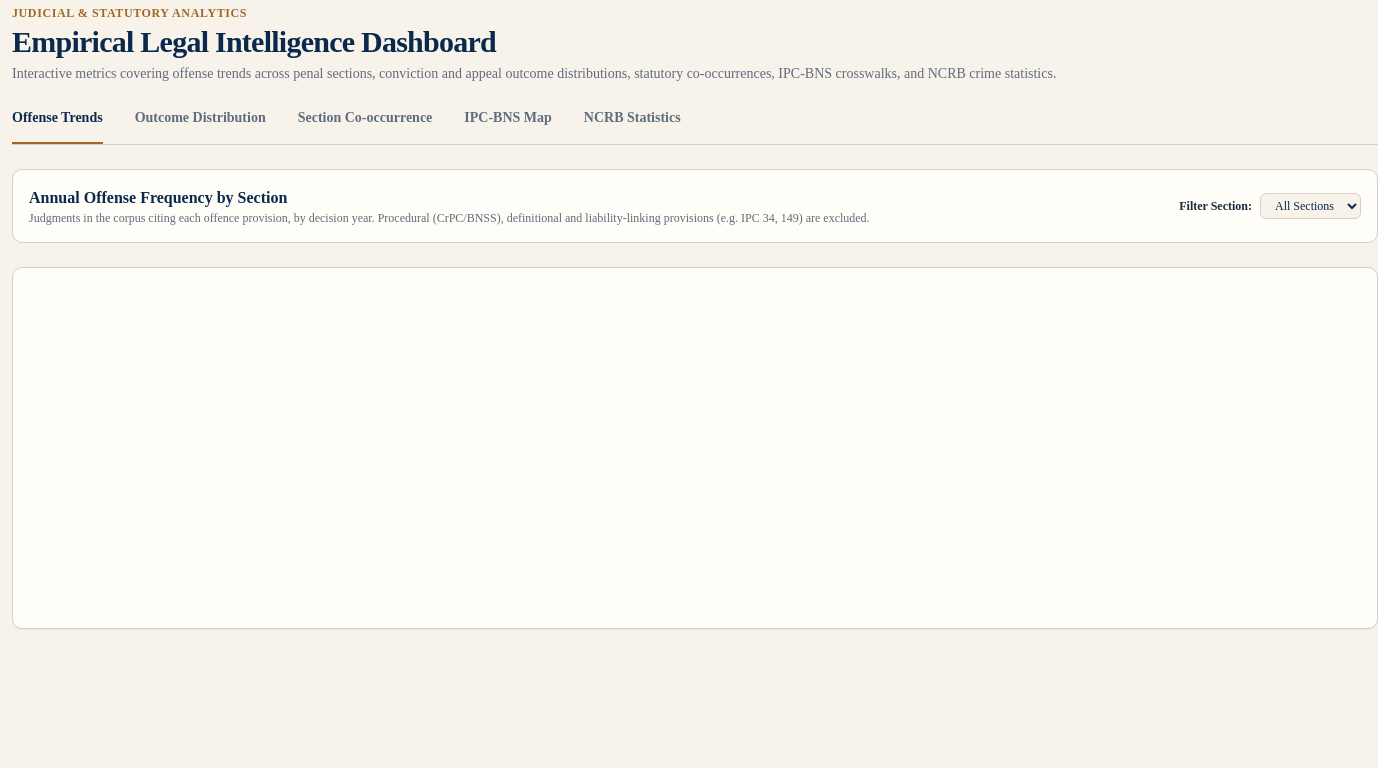
Test: Professional Analytics Dashboard › switches to Outcome Distribution tab on click
The width and height of the screenshot is (1378, 768).
Expected: the element with test id "tab-offense-trends" is shown, [12,169,1377,629]
Click the button "Outcome Distribution" at x=200, y=126, box [135,108,266,144]
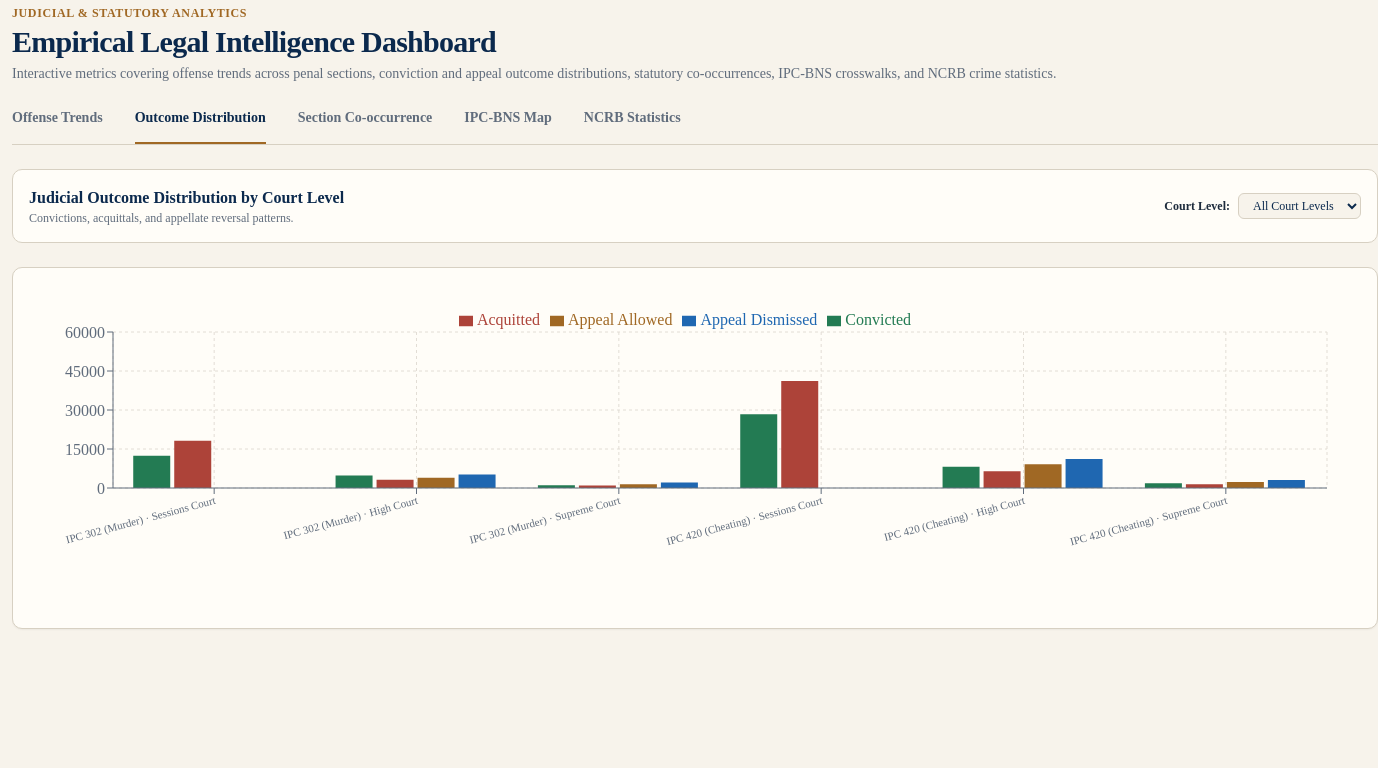
Result: the element with test id "tab-outcome-distribution" is shown at [12,169,1377,629]
Result: the heading "Judicial Outcome Distribution by Court Level" is shown at [29,186,344,210]
